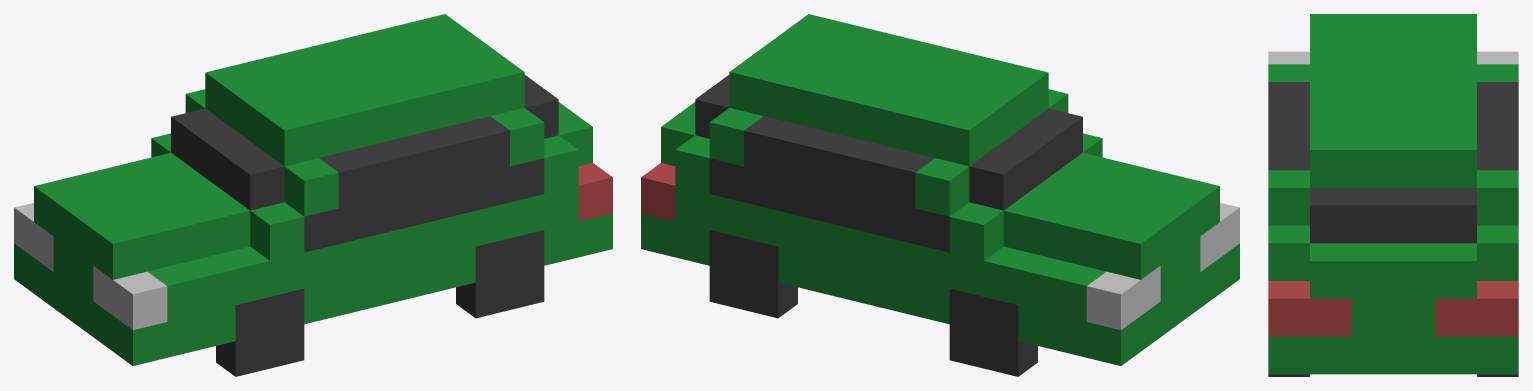
File: car-v1-green.gltf
3 renders of one model, left to right at view 1: azimuth 30°, elevation 25°; view 2: azimuth 150°, elevation 25°; view 3: azimuth 270°, elevation 25°, orthographic. The views are drawn at different scales.
Parts seen in each view (by area): view 1: model, wheels; view 2: model, wheels; view 3: model, wheels.
Boxes of the visible parts, bbox=[...] form: model: bbox=[14, 14, 612, 365]; wheels: bbox=[216, 230, 544, 376]; model: bbox=[641, 14, 1239, 365]; wheels: bbox=[709, 230, 1037, 376]; model: bbox=[1268, 14, 1518, 374]; wheels: bbox=[1268, 374, 1518, 376].
Size of the model in its own units: 1.4 by 0.6 by 0.6.
2 materials, 2 textured.
